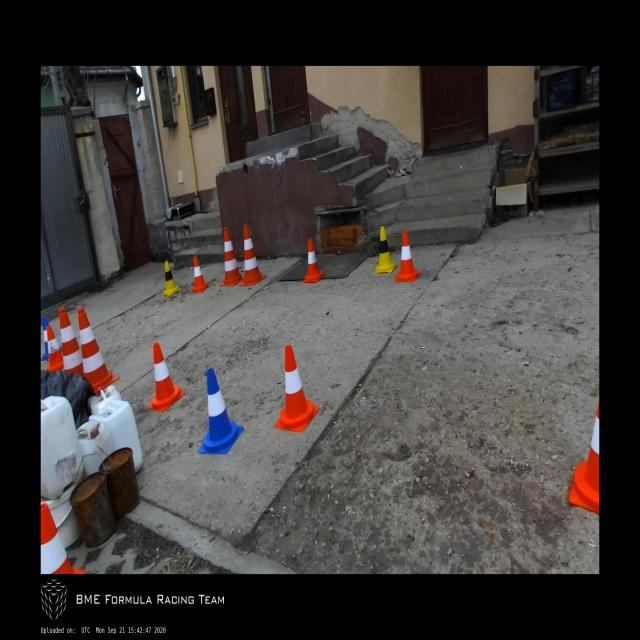blue_cone: (198, 368, 245, 454), (41, 316, 63, 362)
large_orange_cone: (78, 306, 120, 394), (568, 396, 599, 515), (59, 307, 85, 379), (239, 224, 267, 286), (219, 227, 244, 287)
orange_cone: (274, 344, 319, 433), (41, 502, 86, 574), (147, 342, 185, 411), (394, 230, 420, 282), (302, 238, 326, 283), (46, 325, 64, 371), (190, 257, 210, 293)
yellow_cone: (373, 226, 398, 274), (162, 260, 181, 296)
